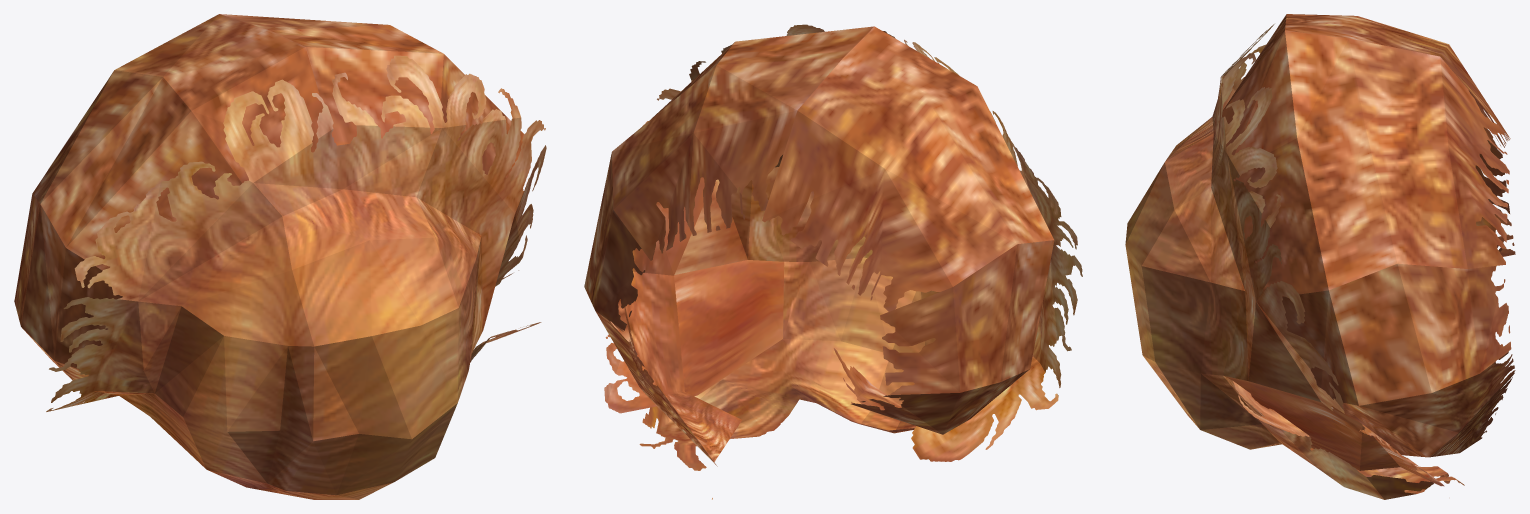
Rendered from common_hair_female_2015.obj.
3 renders of one model, left to right at view 1: azimuth 30°, elevation 25°; view 2: azimuth 150°, elevation 25°; view 3: azimuth 270°, elevation 25°, orthographic. The views are drawn at different scales.
Visible parts, largest first — view 1: common_hair_female_2015; view 2: common_hair_female_2015; view 3: common_hair_female_2015.
Boxes of the visible parts, x1=… form: common_hair_female_2015: x1=14, y1=14, x2=546, y2=499; common_hair_female_2015: x1=584, y1=24, x2=1082, y2=499; common_hair_female_2015: x1=1125, y1=14, x2=1515, y2=499.
Size of the model in its own units: 13.18 by 11.72 by 9.46.
1 material, 1 textured.
